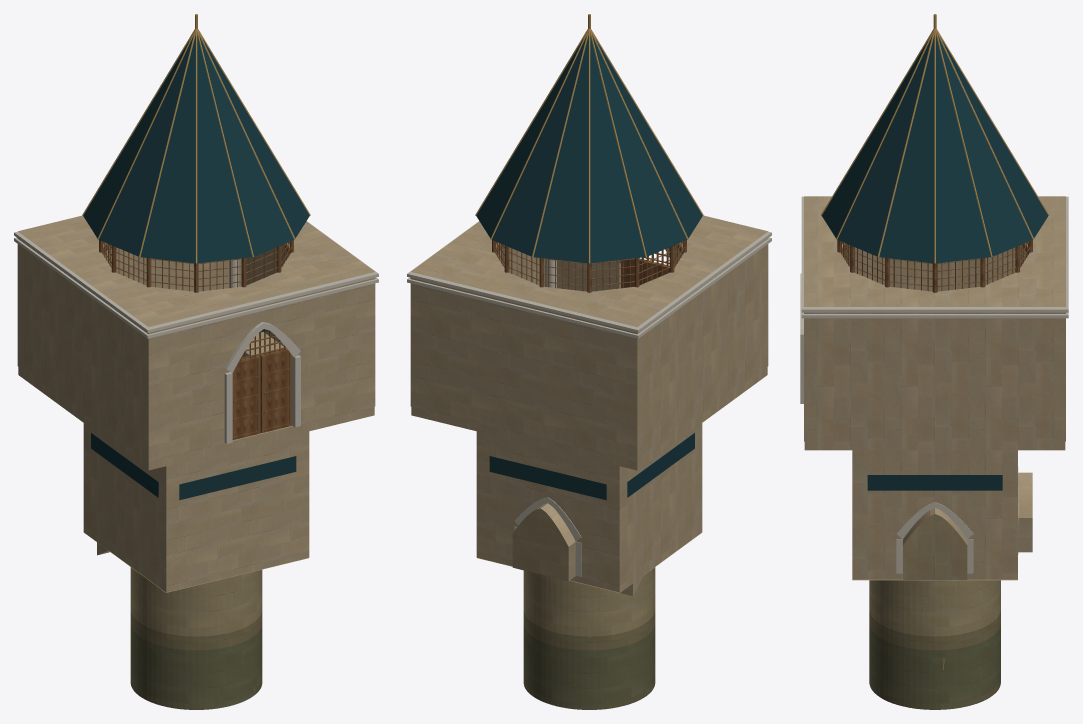
File: nilometer.glb
The picture shows the model from 3 angles, left to right: view 1: azimuth 30°, elevation 25°; view 2: azimuth 150°, elevation 25°; view 3: azimuth 270°, elevation 25°; orthographic projection.
Visible parts, largest first — view 1: NilometerV2, CeilingSpandrels, BrandInscriptions, DoorRight, DoorLeft; view 2: NilometerV2, CeilingSpandrels, BrandInscriptions, DoorRight; view 3: NilometerV2, CeilingSpandrels, BrandInscriptions.
Part boxes in pixels (<box>): NilometerV2: <box>14,14,378,709</box>; CeilingSpandrels: <box>18,215,374,327</box>; BrandInscriptions: <box>91,245,296,500</box>; DoorRight: <box>259,348,291,432</box>; DoorLeft: <box>232,355,260,439</box>; NilometerV2: <box>407,14,771,709</box>; CeilingSpandrels: <box>411,215,767,327</box>; BrandInscriptions: <box>489,245,694,500</box>; DoorRight: <box>621,258,653,288</box>; NilometerV2: <box>800,14,1068,709</box>; CeilingSpandrels: <box>804,196,1065,306</box>; BrandInscriptions: <box>867,475,1002,490</box>.
Bounding box in the file's own units: 9.52 × 26.27 × 9.57.
11 materials, 6 textured.
